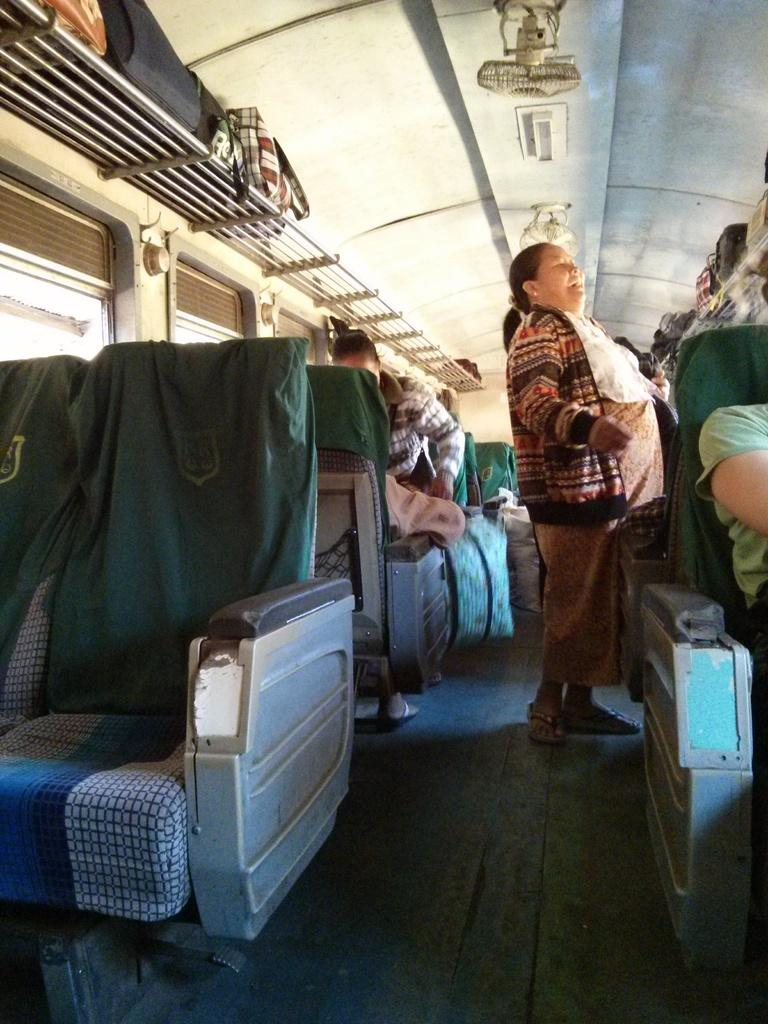Luggage-and-bags: (13, 0, 203, 158), (204, 101, 307, 232)
